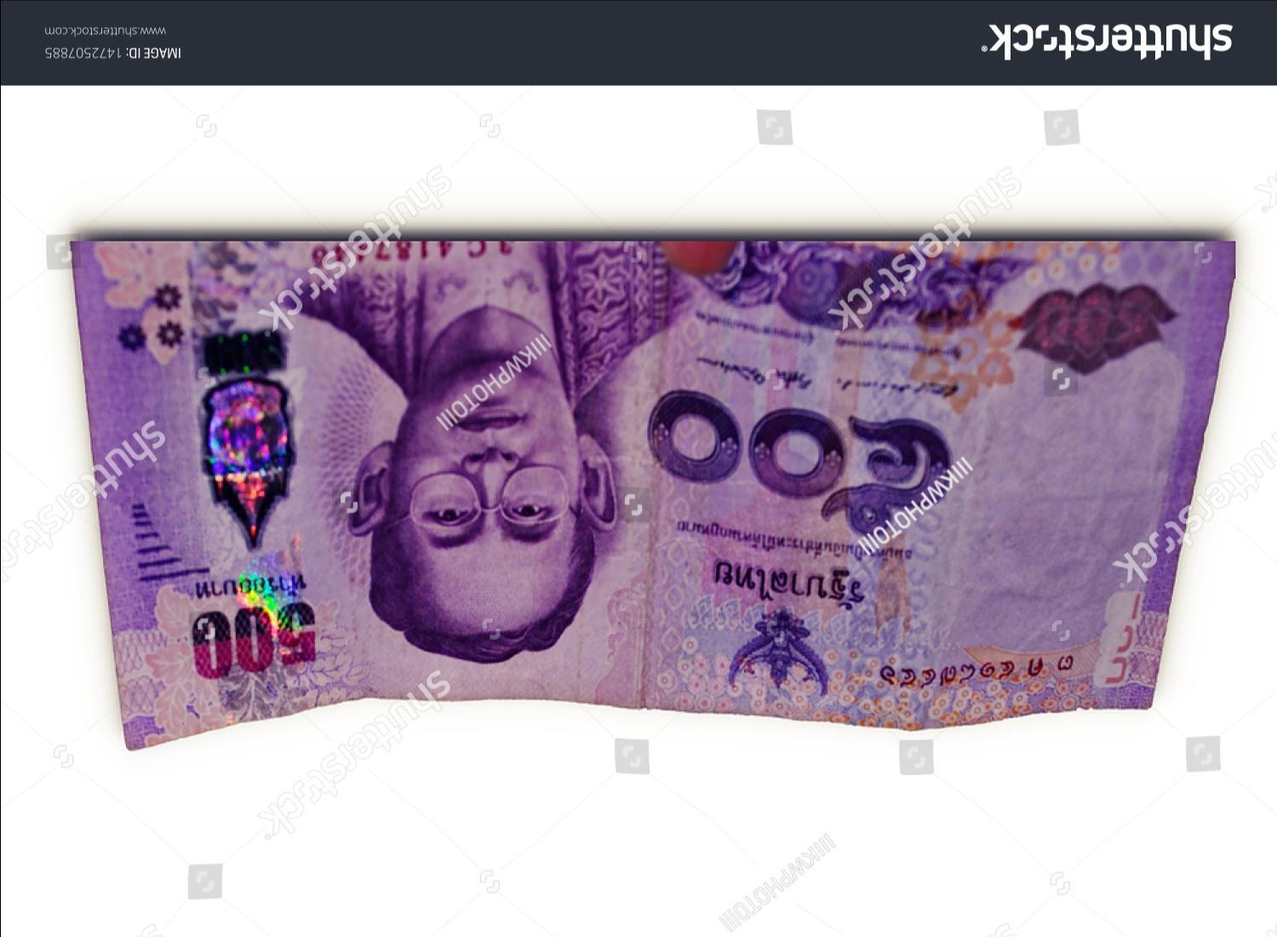500BahtTai: (71, 242, 1193, 713)
